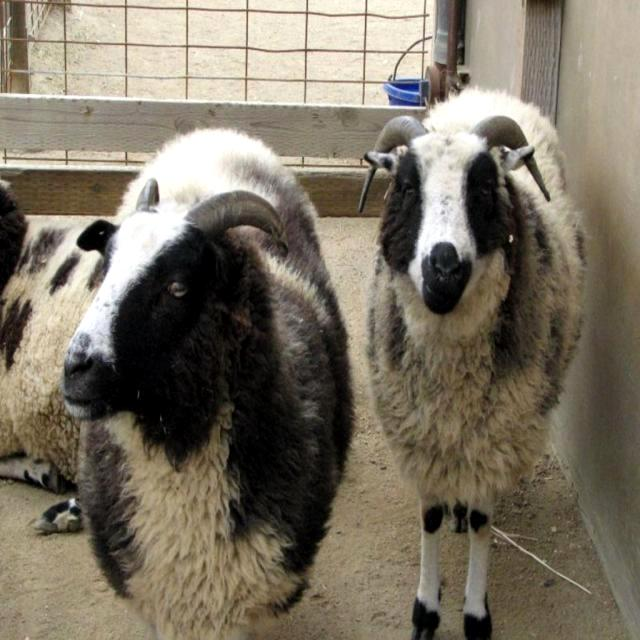sheep: (61, 130, 353, 638), (357, 87, 583, 623), (0, 195, 103, 528)
